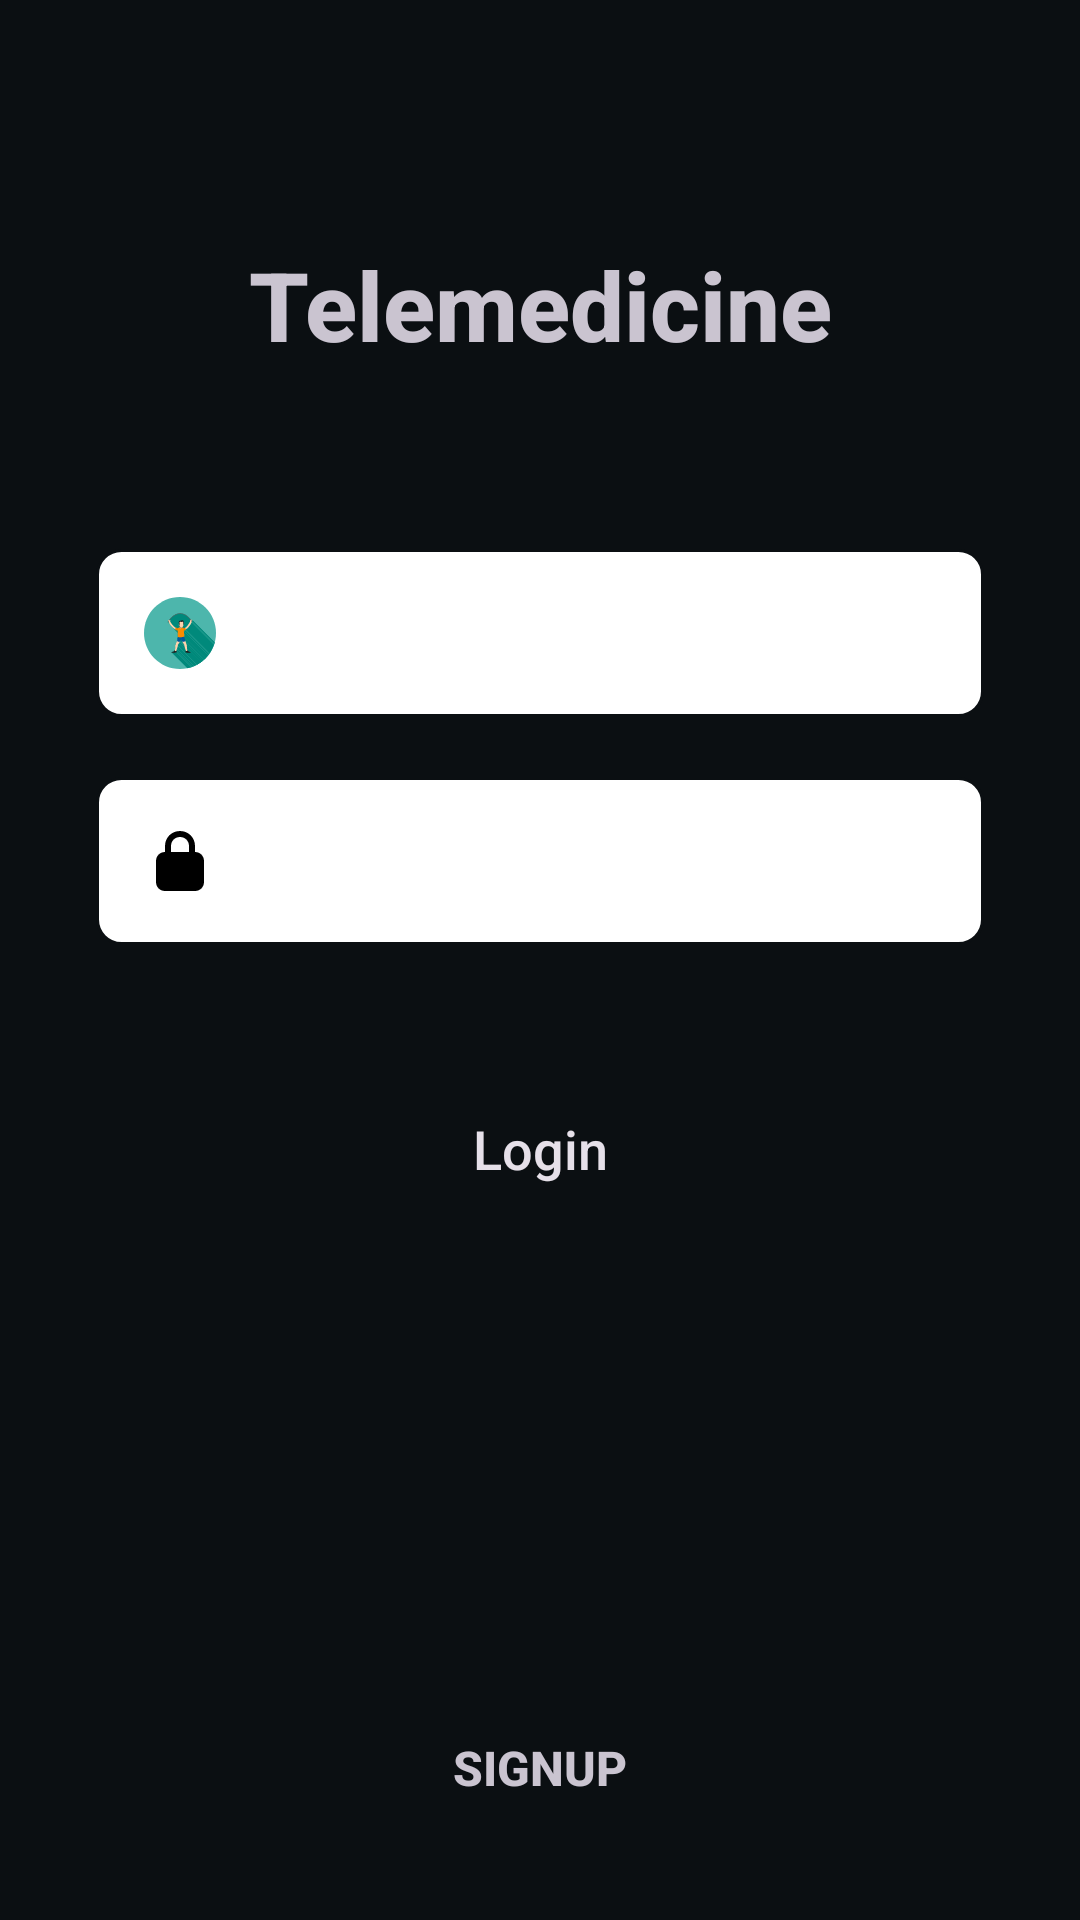

Where to tap for icons on this 1080 × 1920 app screen, as (x=x, y=y):
lock: (x=180, y=861)
tele person: (x=180, y=633)
